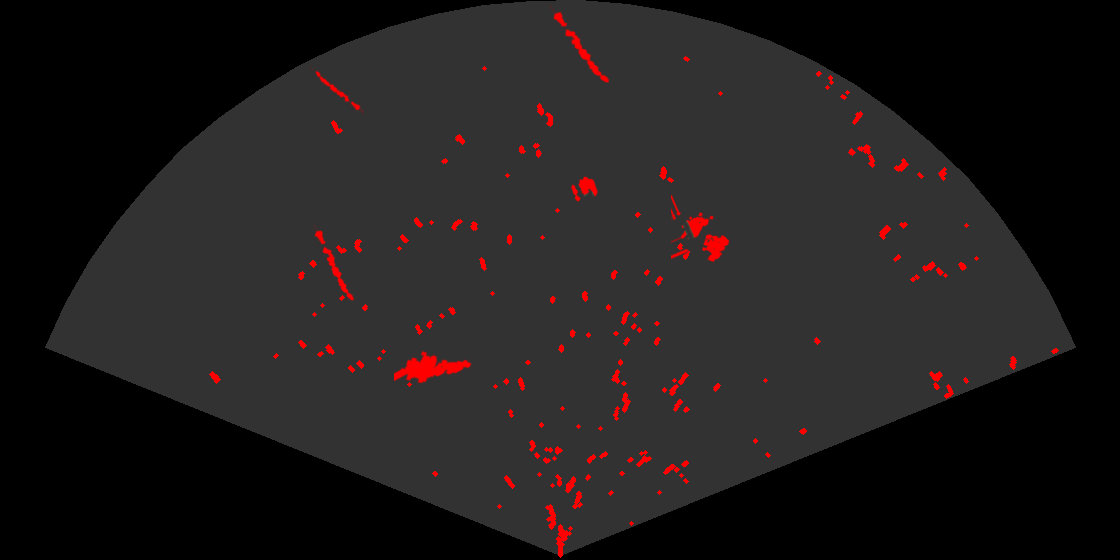ball: (570, 175, 599, 203)
cage: (671, 195, 731, 264)
chain: (548, 5, 611, 85), (312, 225, 356, 302), (308, 67, 364, 115)
frogman: (394, 349, 473, 385)
